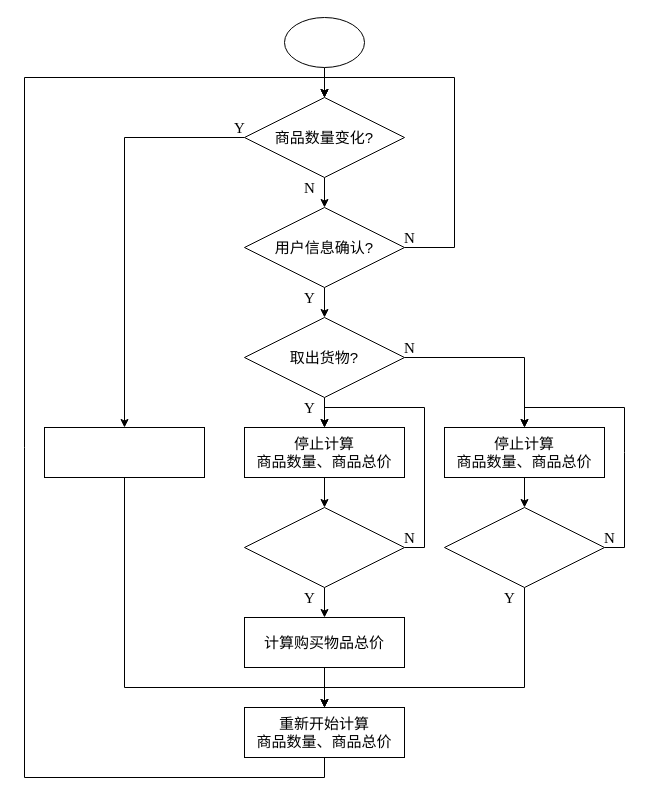
This 650x803 diagram has some shape labels left out. Here are the shapes that lost their labels. From the top down, the centre of each, then its label:
the point at 324,42: 开始
the point at 124,452: 发出警告
the point at 324,547: 取货完成?
the point at 524,547: 补货完成?
